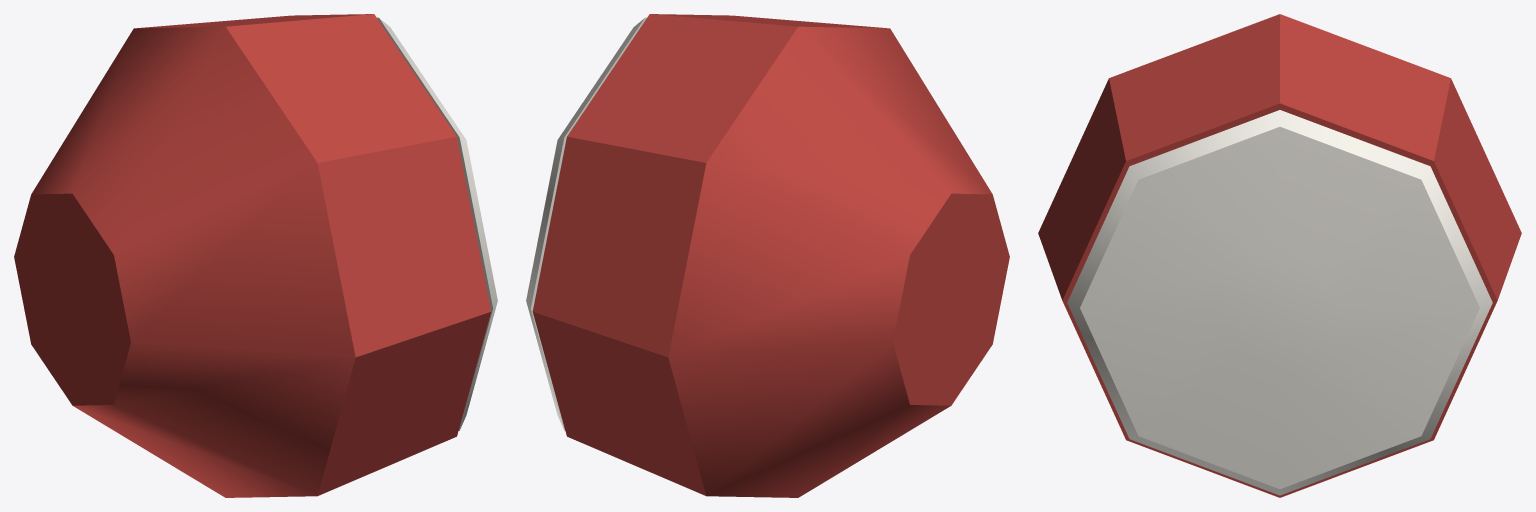
Rendered from round_lod2.glb.
3 renders of one model, left to right at view 1: azimuth 30°, elevation 25°; view 2: azimuth 150°, elevation 25°; view 3: azimuth 270°, elevation 25°, orthographic. The views are drawn at different scales.
Parts seen in each view (by area): view 1: round_lod2; view 2: round_lod2; view 3: round_lod2.
Part boxes in pixels (bbox=[...]): round_lod2: bbox=[14, 14, 497, 497]; round_lod2: bbox=[526, 14, 1009, 497]; round_lod2: bbox=[1038, 14, 1521, 497].
Bounding box in the file's own units: 1.45 × 2 × 2.
